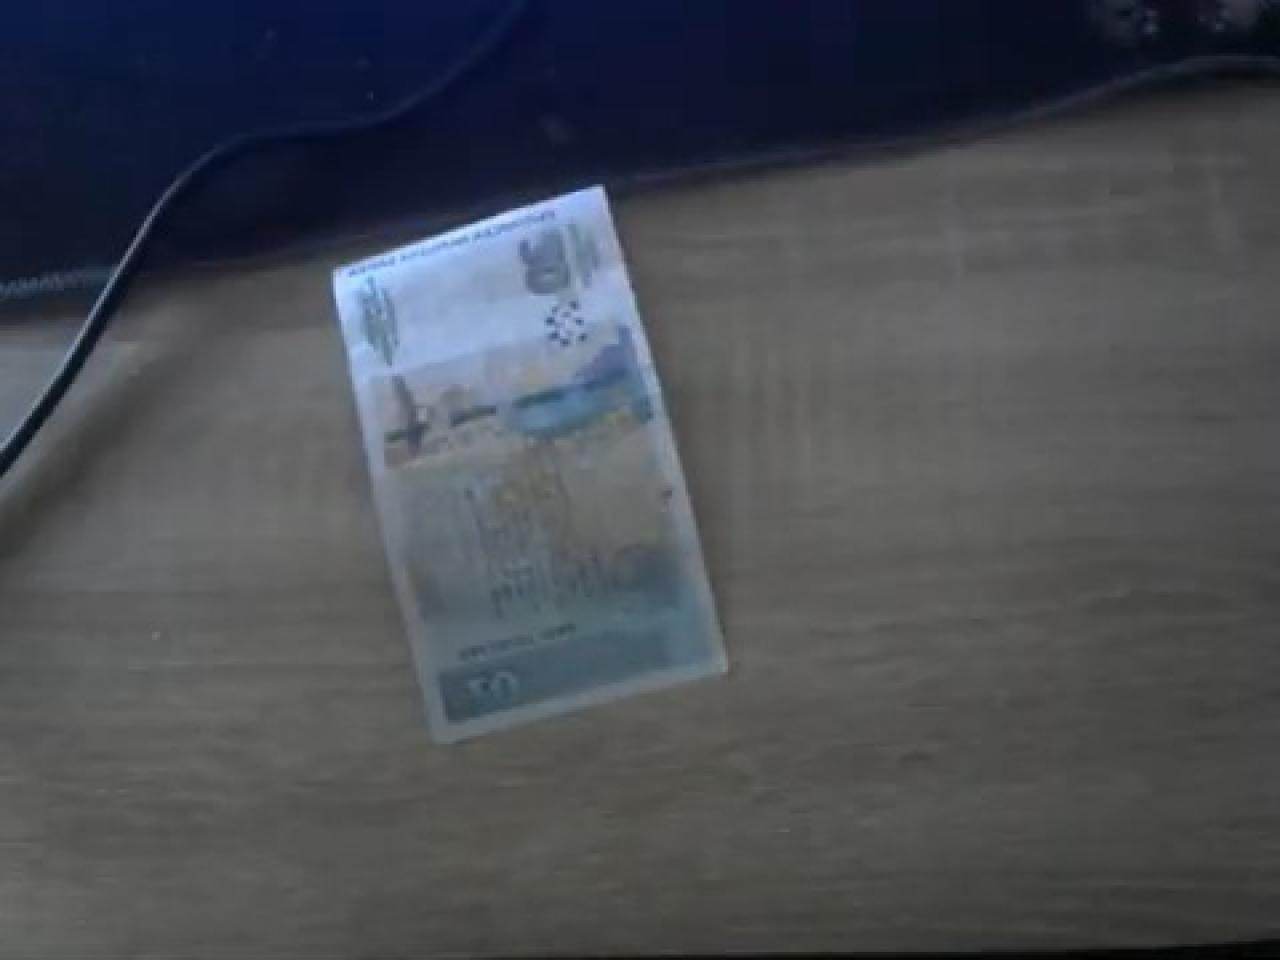20leva: (328, 178, 734, 744)
